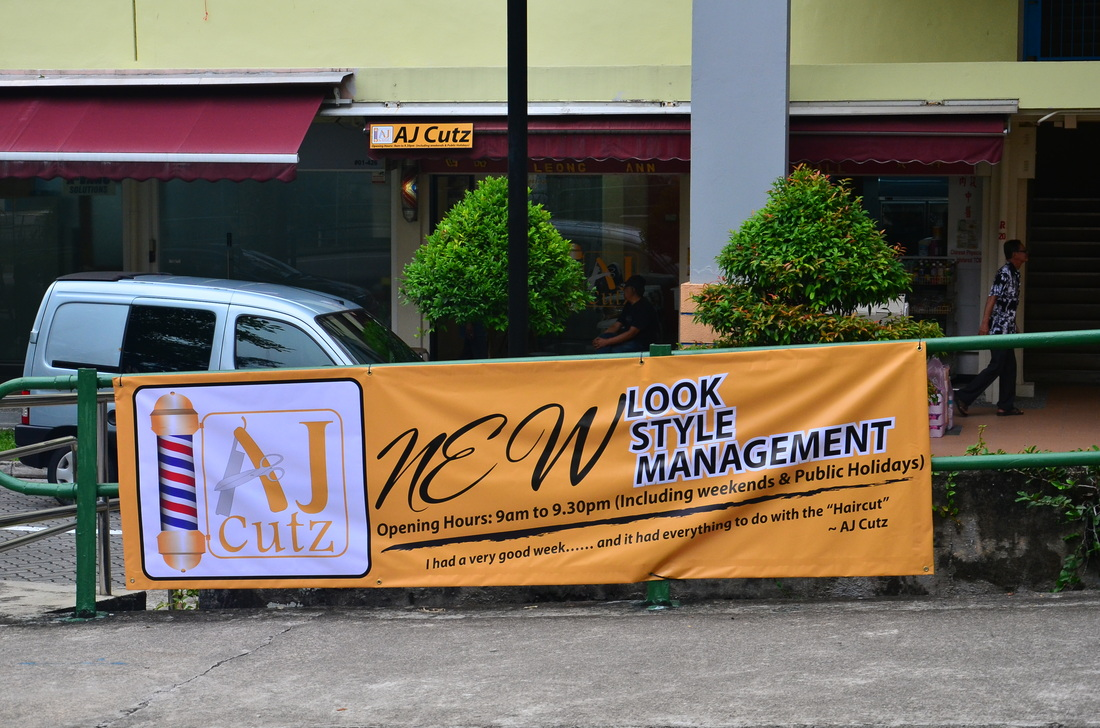vinyl banner: (102, 324, 953, 618)
